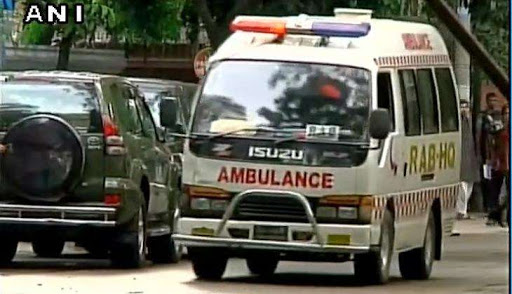ambulance: (171, 6, 462, 284)
car: (1, 71, 185, 270), (130, 76, 196, 150)
